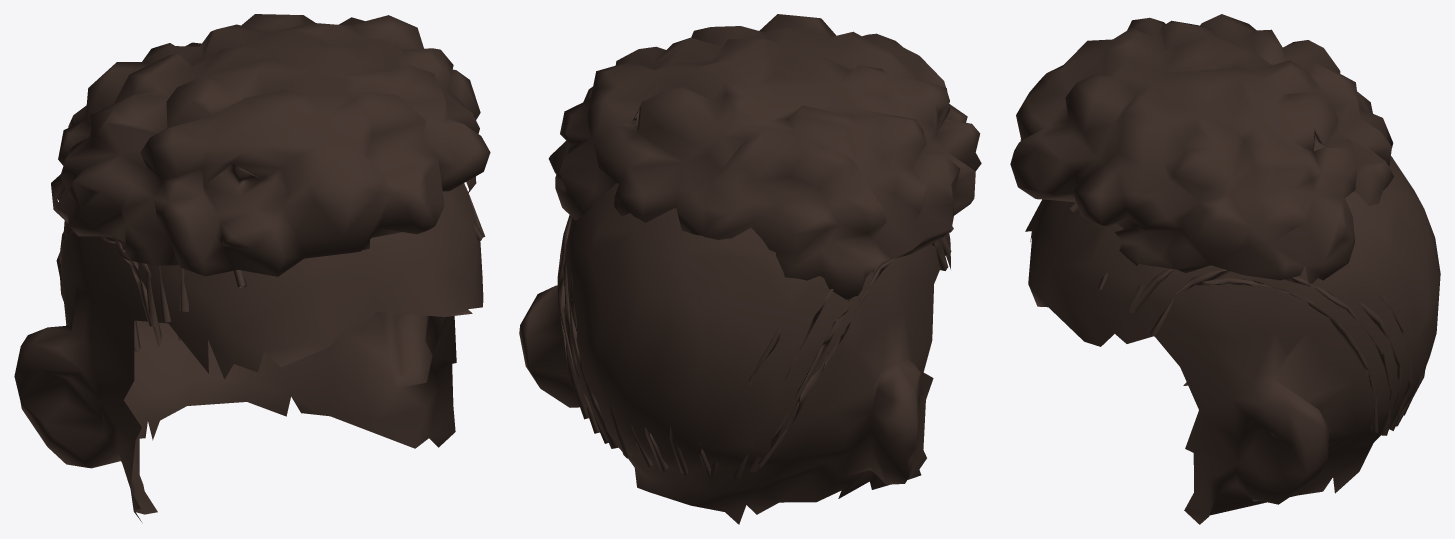
Rendered from curls.glb.
3 views of the same model, side by side, from view 1: azimuth 30°, elevation 25°; view 2: azimuth 150°, elevation 25°; view 3: azimuth 270°, elevation 25° (orthographic). The views are drawn at different scales.
Parts seen in each view (by area): view 1: Hair, HairScalp, HairPulledRootStrands; view 2: HairScalp, Hair, HairPulledRootStrands; view 3: Hair, HairScalp, HairPulledRootStrands.
Part boxes in pixels (bbox=[...]): Hair: bbox=[51, 14, 490, 276]; HairScalp: bbox=[14, 168, 483, 523]; HairPulledRootStrands: bbox=[56, 183, 485, 351]; HairScalp: bbox=[519, 128, 950, 524]; Hair: bbox=[548, 14, 981, 299]; HairPulledRootStrands: bbox=[557, 125, 953, 479]; Hair: bbox=[1010, 14, 1394, 287]; HairScalp: bbox=[1025, 140, 1440, 524]; HairPulledRootStrands: bbox=[1069, 202, 1426, 435].
Size of the model in its own units: 0.459 by 0.4456 by 0.4324.
